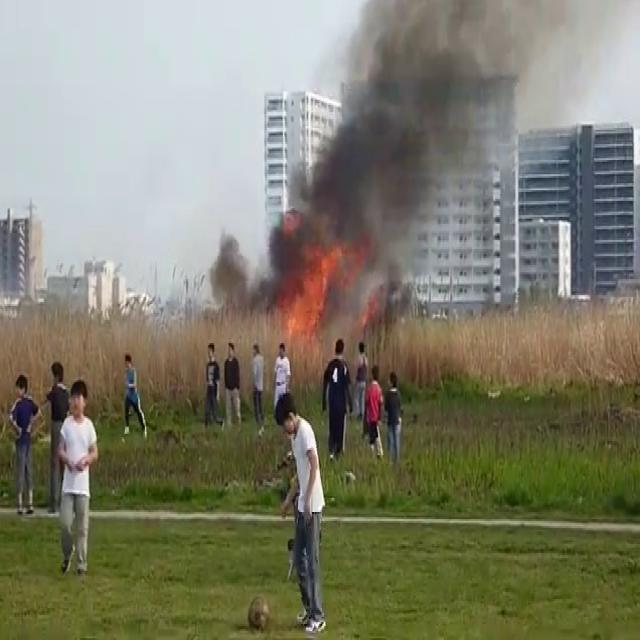Fire: (279, 241, 345, 337)
Smoke: (208, 0, 634, 320)
